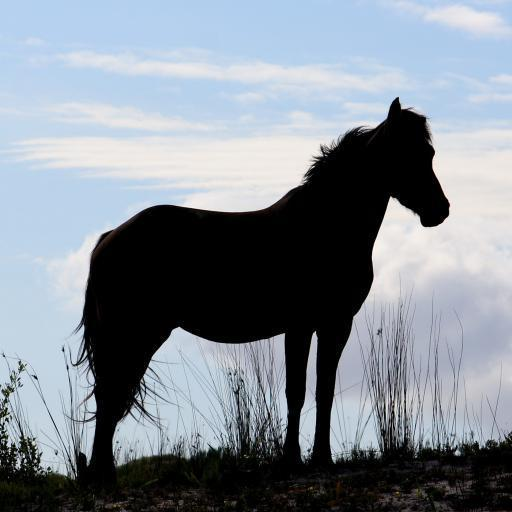horse: (58, 94, 454, 482)
